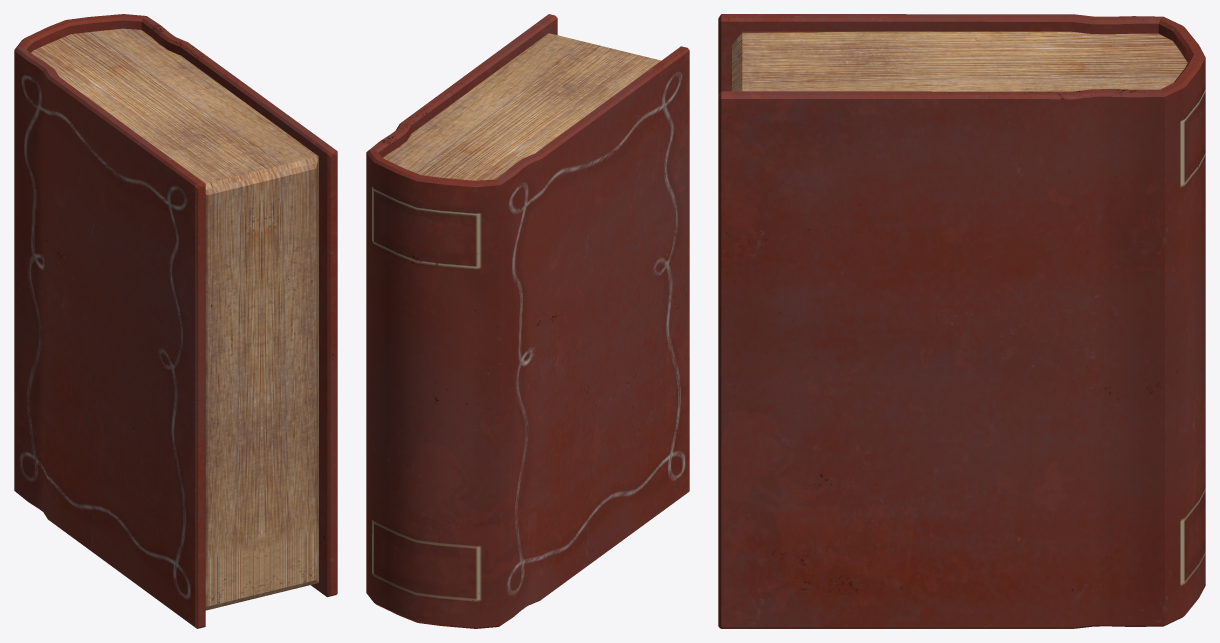
The model's file is 3DArt_Props_Books_Model_Amanda_V02.fbx.
3 renders of one model, left to right at view 1: azimuth 30°, elevation 25°; view 2: azimuth 150°, elevation 25°; view 3: azimuth 270°, elevation 25°, orthographic. The views are drawn at different scales.
Visible parts, largest first — view 1: Book_002; view 2: Book_002; view 3: Book_002.
Boxes of the visible parts, left/top/right/bottom form: Book_002: left=14, top=14, right=337, bottom=628; Book_002: left=366, top=14, right=689, bottom=628; Book_002: left=718, top=14, right=1205, bottom=628.
Size of the model in its own units: 6.72 by 20 by 16.55.
